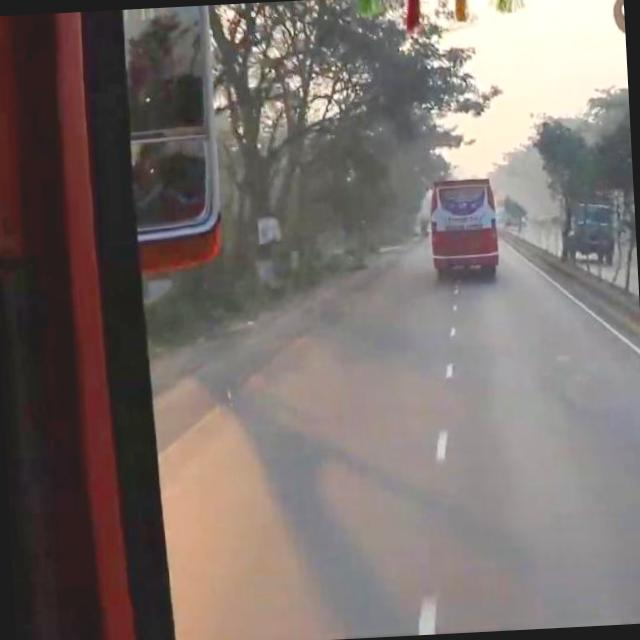bus: (426, 175, 500, 272)
truck: (558, 185, 616, 263)
